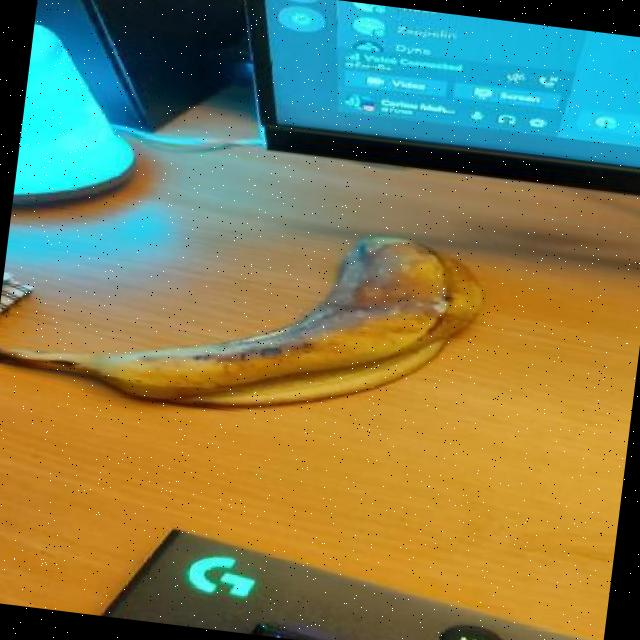banana-peel: (0, 185, 489, 439)
